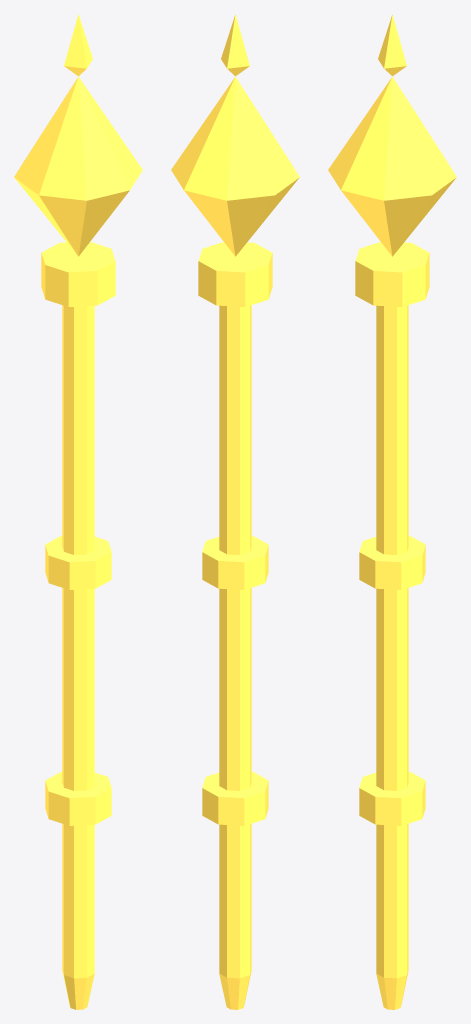
Rendered from baculo.glb.
3 renders of one model, left to right at view 1: azimuth 30°, elevation 25°; view 2: azimuth 150°, elevation 25°; view 3: azimuth 330°, elevation 25°, orthographic.
Visible parts, largest first — view 1: baculo; view 2: baculo; view 3: baculo.
Boxes of the visible parts, x1,y1,x2,y2 form: baculo: (14, 14, 142, 1009); baculo: (171, 14, 299, 1009); baculo: (328, 14, 456, 1009).
Size of the model in its own units: 0.157 by 1.43 by 0.157.
